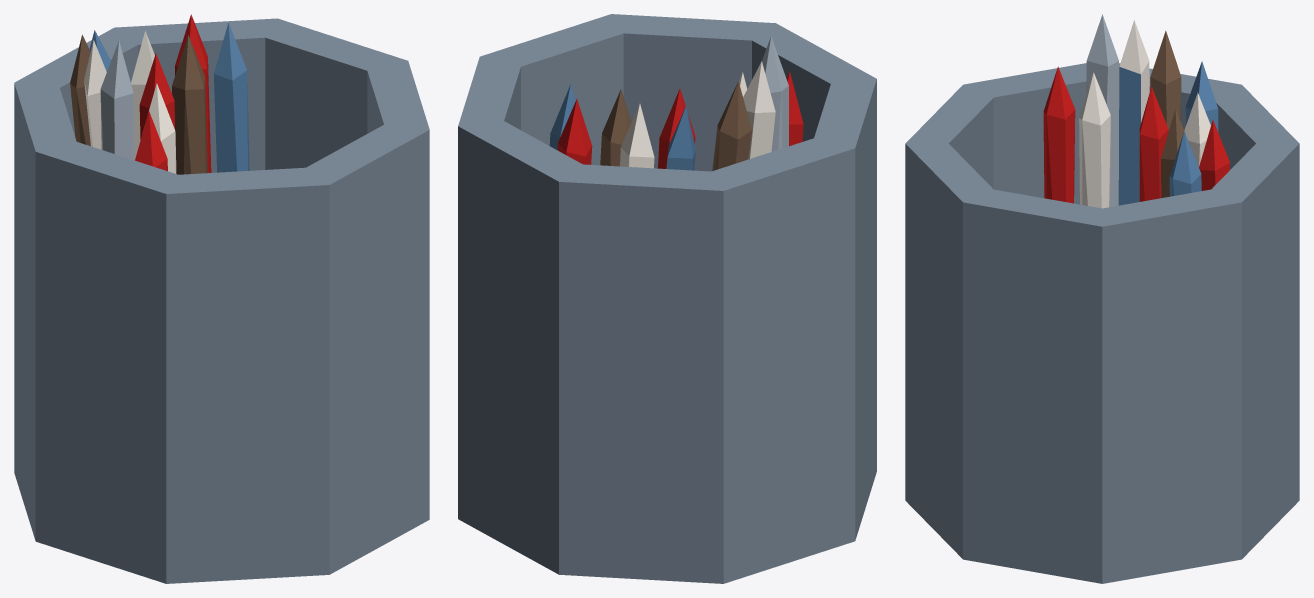
File: Pencils.fbx
3 renders of one model, left to right at view 1: azimuth 30°, elevation 25°; view 2: azimuth 150°, elevation 25°; view 3: azimuth 270°, elevation 25°, orthographic. The views are drawn at different scales.
Parts seen in each view (by area): view 1: Pencils; view 2: Pencils; view 3: Pencils.
Boxes of the visible parts, x1,y1,x2,y2 form: Pencils: (14, 14, 429, 583); Pencils: (458, 14, 876, 583); Pencils: (905, 14, 1299, 583).
Size of the model in its own units: 36.45 by 44.98 by 36.45.
